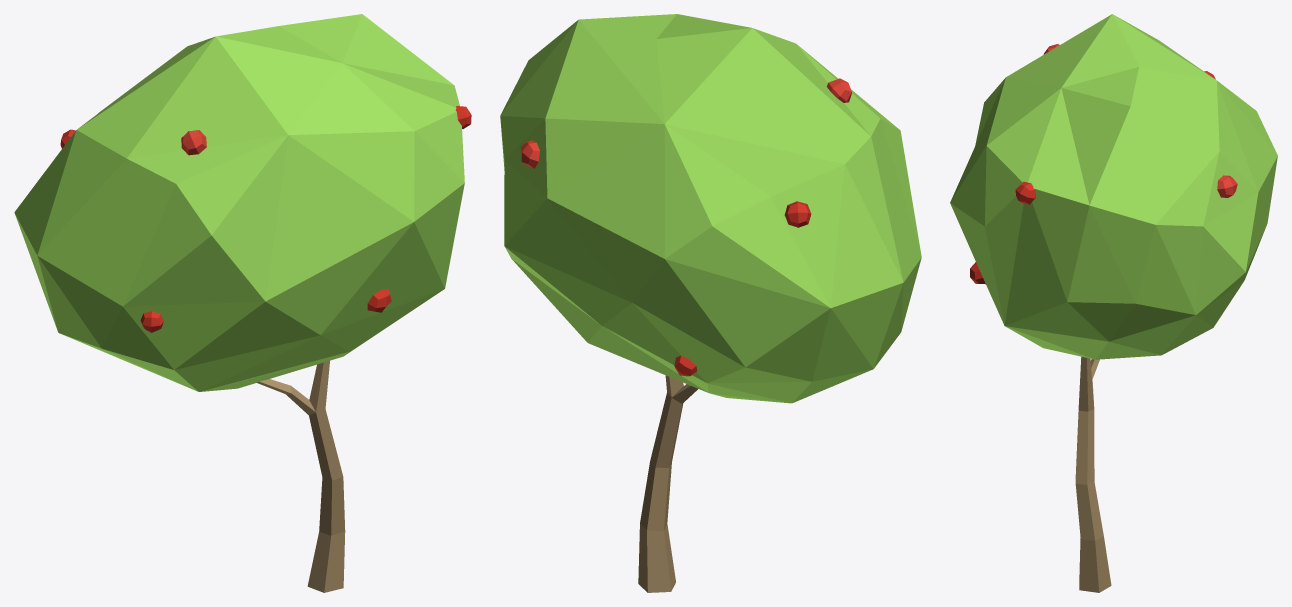
The model's file is Apple_Tree_Apples_m_01.fbx.
3 views of the same model, side by side, from view 1: azimuth 30°, elevation 25°; view 2: azimuth 150°, elevation 25°; view 3: azimuth 270°, elevation 25° (orthographic). The views are drawn at different scales.
Parts seen in each view (by area): view 1: Apple_Tree_Apples_m_01; view 2: Apple_Tree_Apples_m_01; view 3: Apple_Tree_Apples_m_01.
Boxes of the visible parts, <box> form: Apple_Tree_Apples_m_01: <box>14,14,471,592</box>; Apple_Tree_Apples_m_01: <box>500,14,921,592</box>; Apple_Tree_Apples_m_01: <box>950,14,1277,592</box>.
Bounding box in the file's own units: 538 × 749 × 423.
